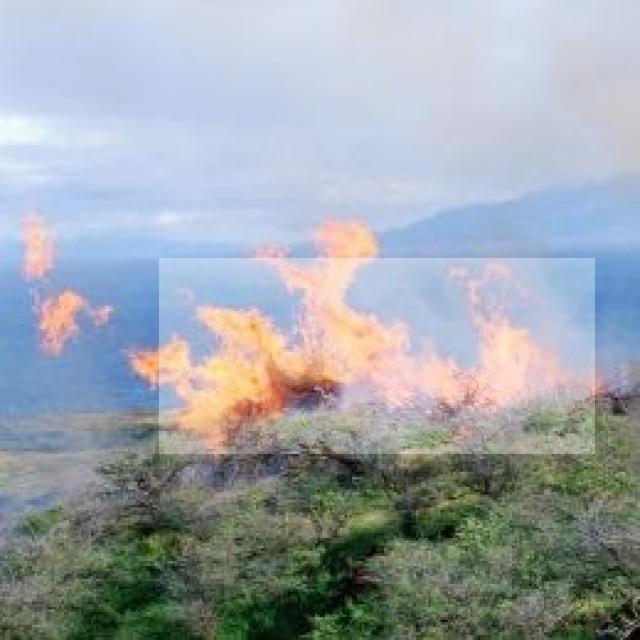Fire: (160, 258, 596, 454)
